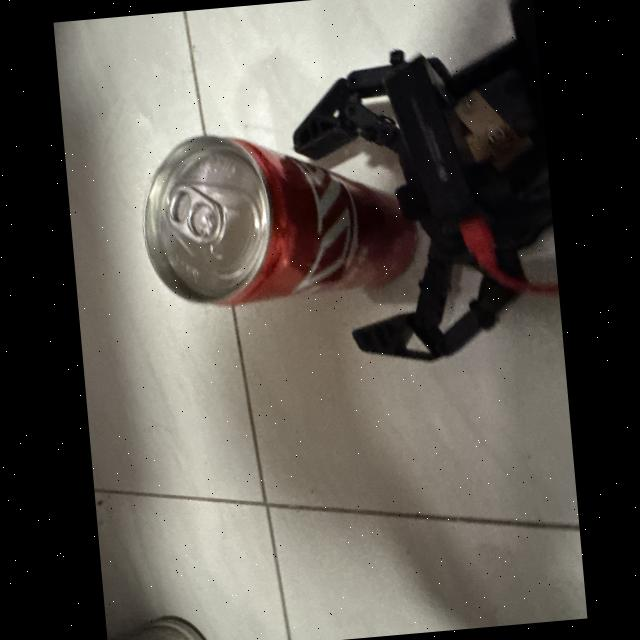Cola: (122, 110, 426, 327)
